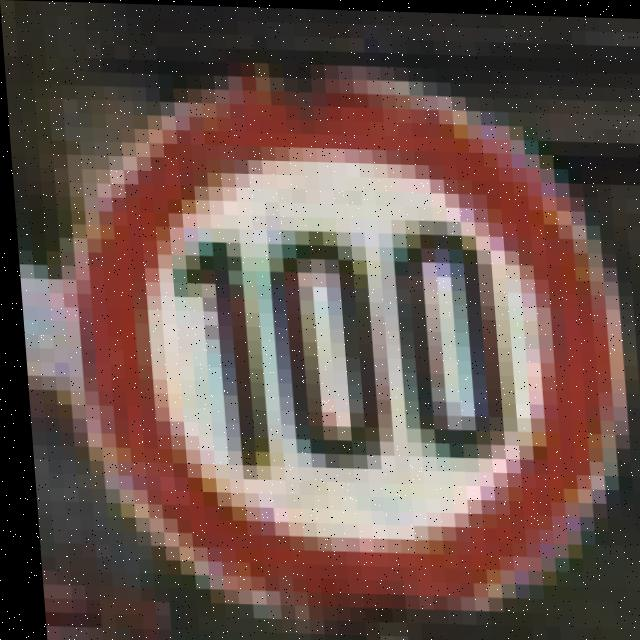speed_limit_100: (64, 42, 640, 639)
